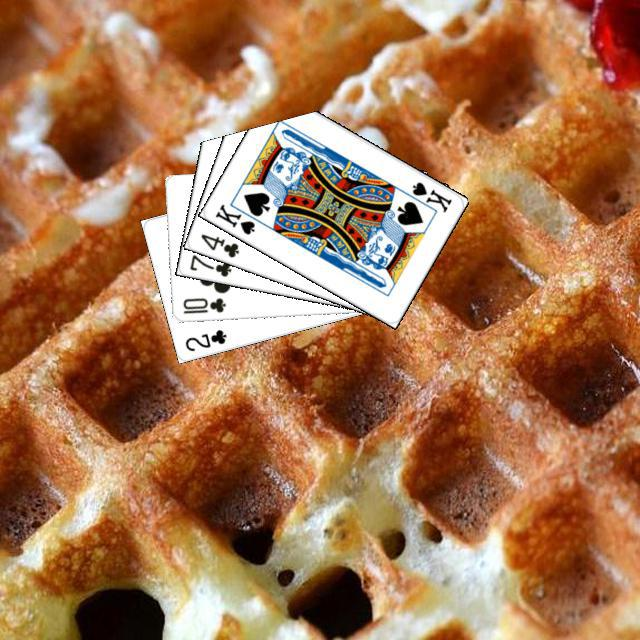10c: (178, 293, 227, 315)
2c: (180, 324, 228, 353)
4c: (196, 229, 241, 259)
7c: (185, 250, 233, 278)
Ks: (399, 177, 453, 214), (210, 199, 257, 236)
